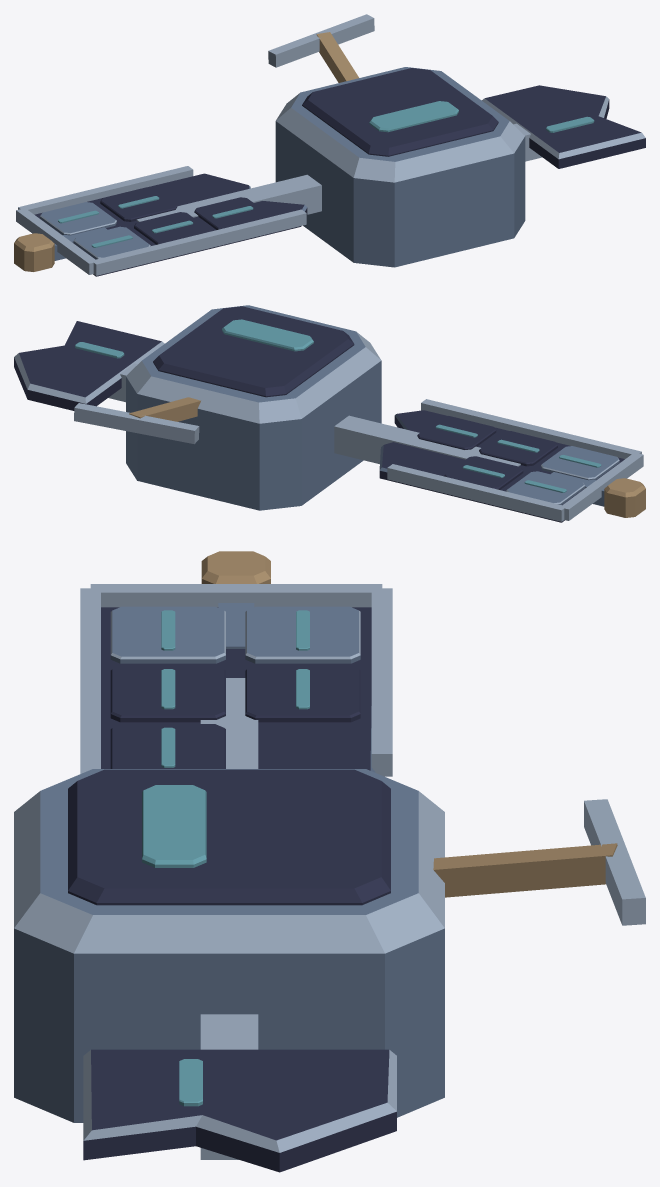
File: derelict_satellite.glb
3 views of the same model, one above another, from view 1: azimuth 30°, elevation 25°; view 2: azimuth 150°, elevation 25°; view 3: azimuth 270°, elevation 25° (orthographic). The views are drawn at different scales.
Parts seen in each view (by area): view 1: derelict_satellite; view 2: derelict_satellite; view 3: derelict_satellite.
Boxes of the visible parts, bbox=[...] form: derelict_satellite: bbox=[14, 14, 645, 276]; derelict_satellite: bbox=[14, 305, 645, 522]; derelict_satellite: bbox=[14, 551, 645, 1172].
Size of the model in its own units: 5.78 by 1 by 2.64.
